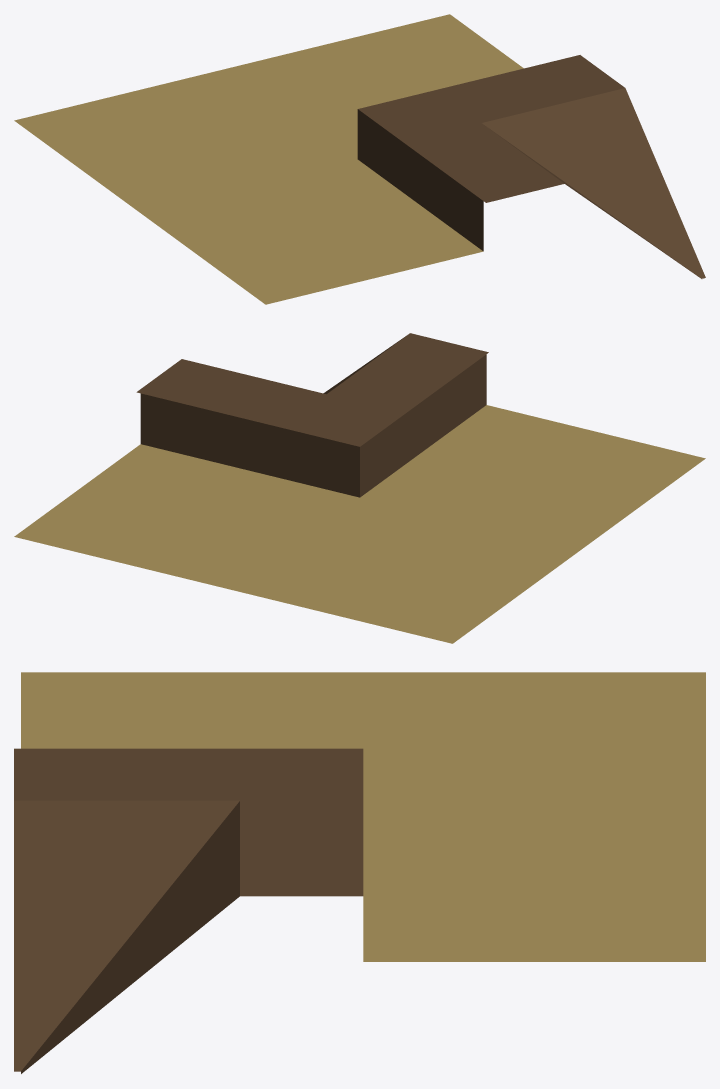
Rendered from Roof Valley.fbx.
3 renders of one model, top to bottom at view 1: azimuth 30°, elevation 25°; view 2: azimuth 150°, elevation 25°; view 3: azimuth 270°, elevation 25°, orthographic. The views are drawn at different scales.
Parts seen in each view (by area): view 1: Roof Valley; view 2: Roof Valley; view 3: Roof Valley.
Boxes of the visible parts, <box> form: Roof Valley: <box>14,14,705,304</box>; Roof Valley: <box>14,333,705,643</box>; Roof Valley: <box>14,672,705,1073</box>.
Bounding box in the file's own units: 101 × 28.7 × 101.
